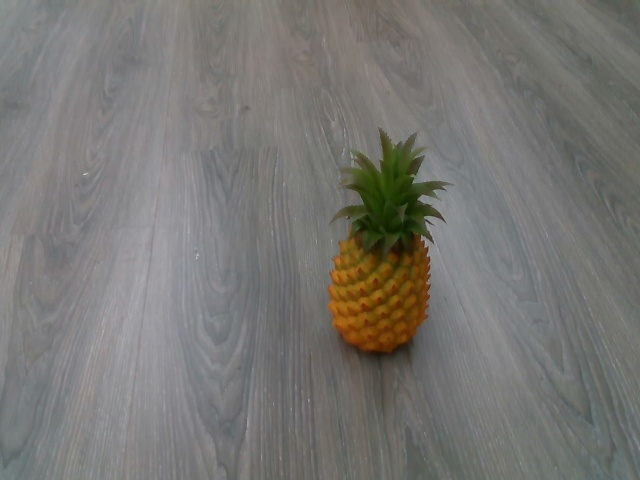pineapple: (320, 124, 456, 363)
